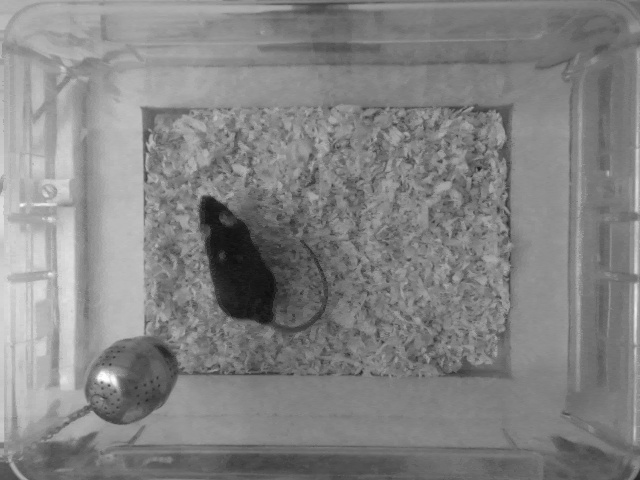mice: (195, 193, 328, 338)
